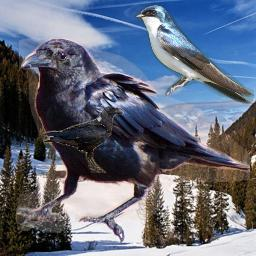Crow: (16, 38, 250, 243), (43, 106, 124, 173)
Swallow: (135, 5, 254, 104)
